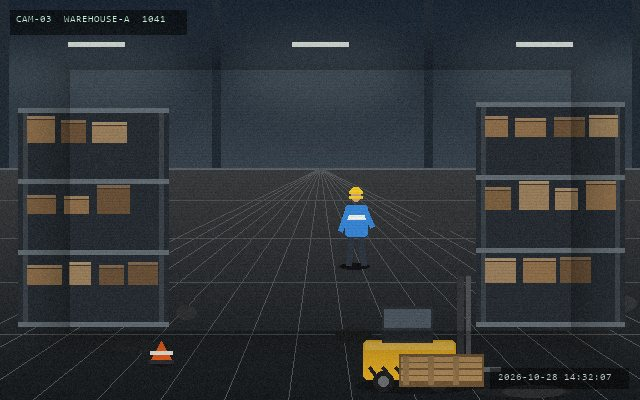cone: (148, 339, 174, 366)
forklift: (359, 274, 503, 393)
pallet: (397, 352, 485, 388)
person: (338, 185, 374, 268)
shelf: (476, 102, 624, 322), (18, 108, 168, 322)
